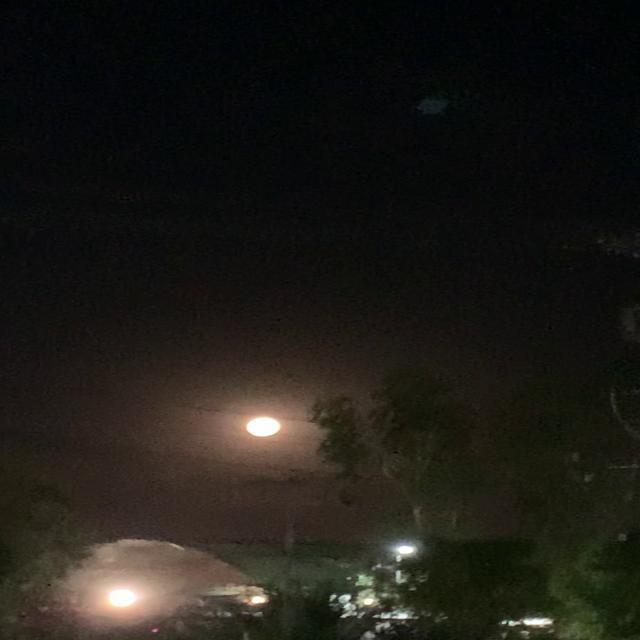moon: (238, 418, 280, 442)
